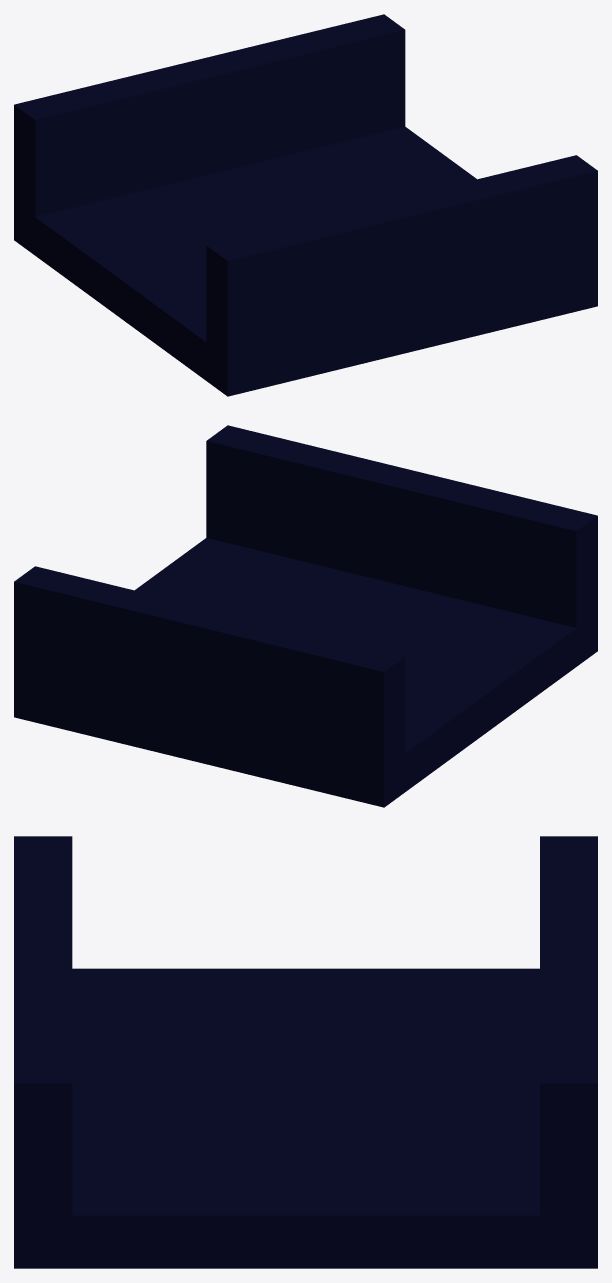
The model's file is NavyRoof_2Edges_Small.glb.
3 views of the same model, one above another, from view 1: azimuth 30°, elevation 25°; view 2: azimuth 150°, elevation 25°; view 3: azimuth 270°, elevation 25° (orthographic). The views are drawn at different scales.
Parts seen in each view (by area): view 1: roof_flat_2Edges_small_navy; view 2: roof_flat_2Edges_small_navy; view 3: roof_flat_2Edges_small_navy.
Boxes of the visible parts, left/top/right/bottom form: roof_flat_2Edges_small_navy: left=14, top=14, right=597, bottom=396; roof_flat_2Edges_small_navy: left=14, top=425, right=597, bottom=807; roof_flat_2Edges_small_navy: left=14, top=836, right=597, bottom=1268.
Size of what is drawn, in the model's own units: 2 by 0.7 by 2.
Materials: 1 (1 with a texture image).
